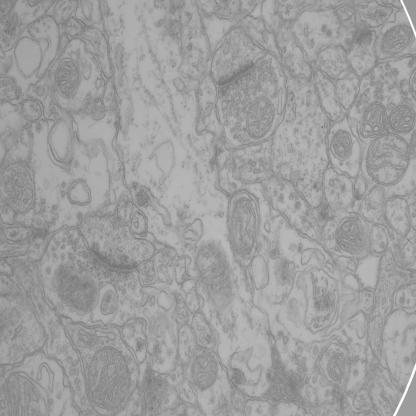mitochondria: (86, 346, 133, 413), (364, 132, 412, 188), (51, 264, 102, 315), (198, 240, 234, 300), (226, 194, 260, 257), (244, 94, 277, 144), (334, 214, 367, 259), (356, 101, 388, 140), (380, 24, 414, 60), (55, 57, 82, 100), (191, 350, 220, 390), (386, 102, 416, 137), (330, 129, 354, 164), (327, 351, 348, 385)
